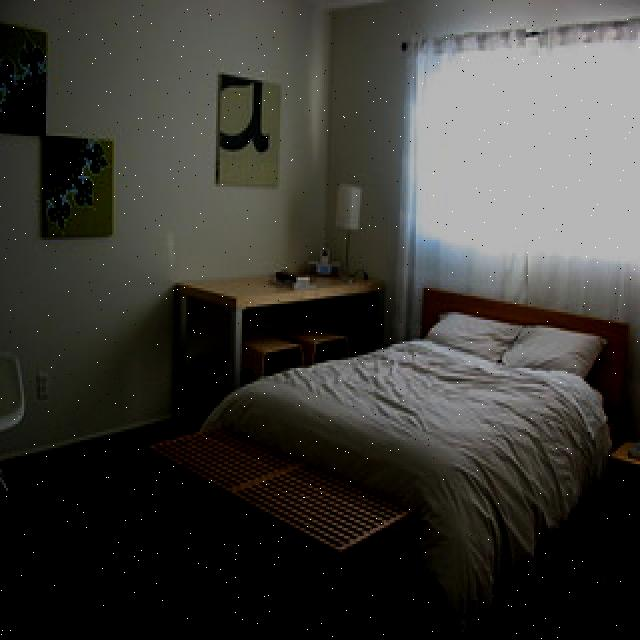bed: (198, 286, 636, 618)
